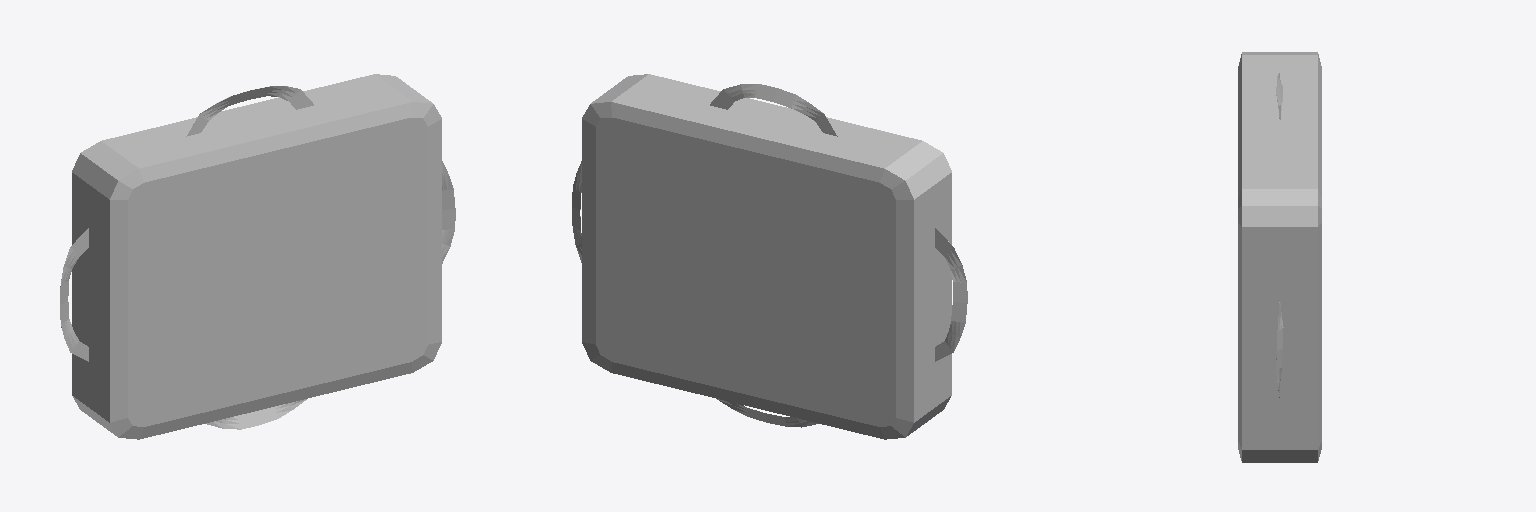
The model's file is bag.obj.
3 renders of one model, left to right at view 1: azimuth 30°, elevation 25°; view 2: azimuth 150°, elevation 25°; view 3: azimuth 270°, elevation 25°, orthographic.
Parts seen in each view (by area): view 1: Plane.001; view 2: Plane.001; view 3: Plane.001.
Part boxes in pixels (left/top/right/bottom): Plane.001: left=60, top=74, right=455, bottom=439; Plane.001: left=572, top=74, right=967, bottom=439; Plane.001: left=1238, top=52, right=1321, bottom=462.
Bounding box in the file's own units: 0.7734 × 0.6296 × 0.1429.